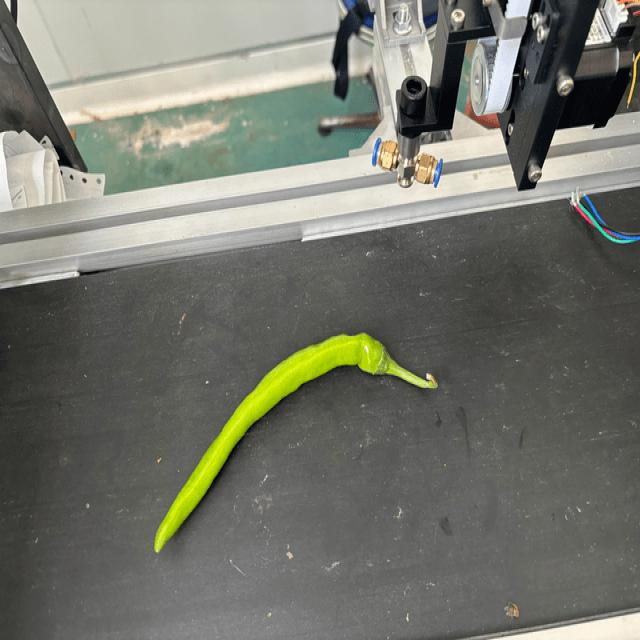chili: (150, 330, 390, 558)
